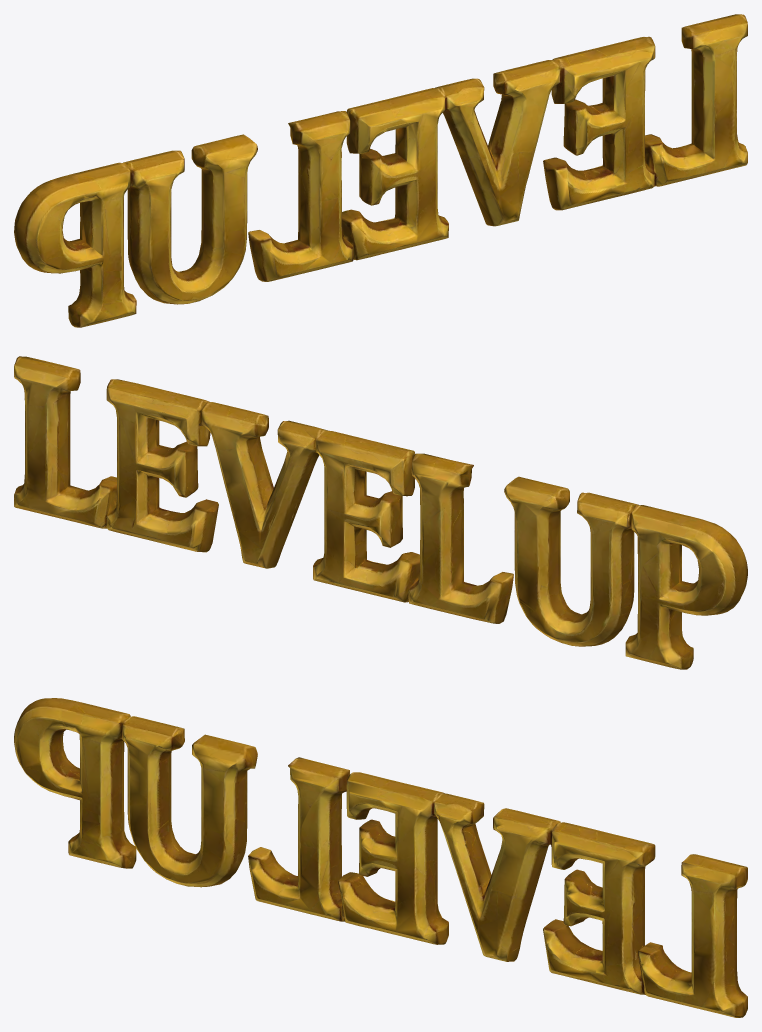
The model's file is level-up.glb.
The picture shows the model from 3 angles, top to bottom: view 1: azimuth 30°, elevation 25°; view 2: azimuth 150°, elevation 25°; view 3: azimuth 330°, elevation 25°; orthographic projection.
Size of the model in its own units: 1.9 by 0.3848 by 0.0955.
1 material, 1 textured.
